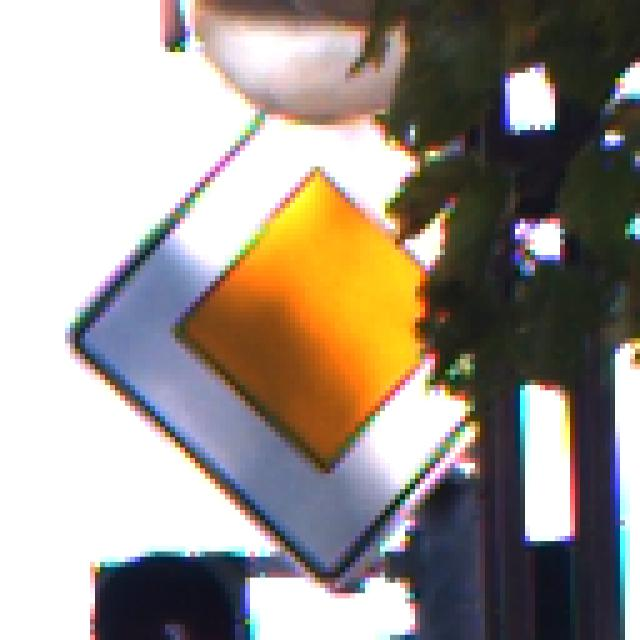Main Road: (61, 58, 586, 589)
